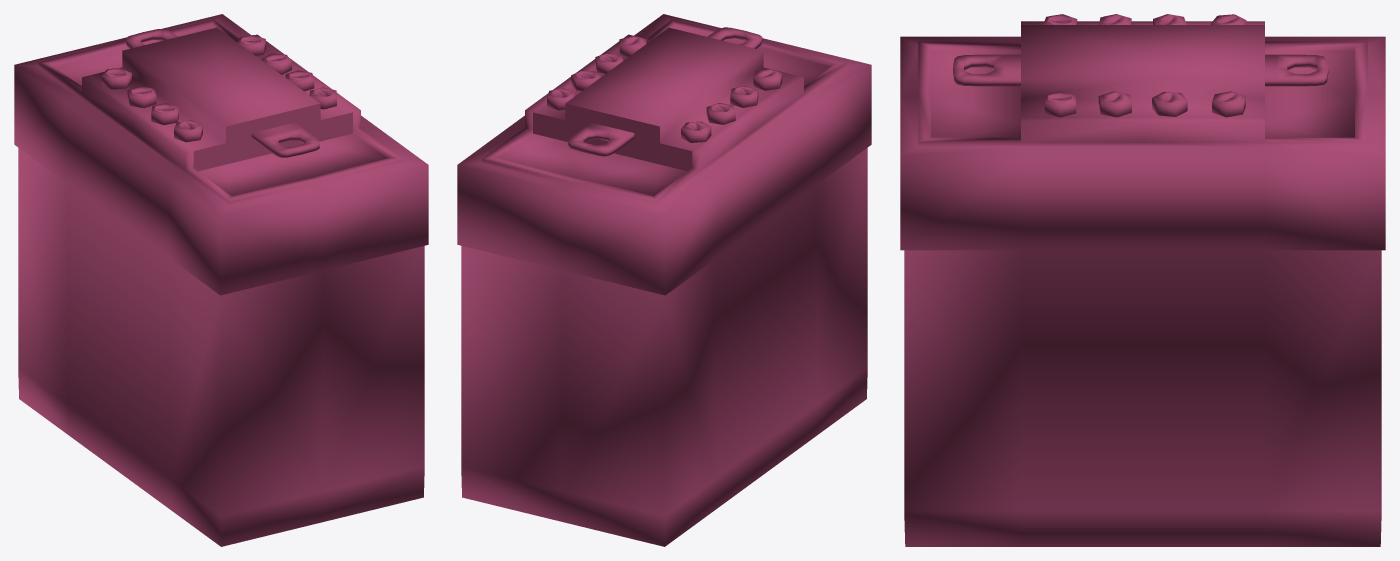
File: Battery_Model_2.fbx
The picture shows the model from 3 angles, left to right: view 1: azimuth 30°, elevation 25°; view 2: azimuth 150°, elevation 25°; view 3: azimuth 270°, elevation 25°; orthographic projection. The views are drawn at different scales.
Visible parts, largest first — view 1: Bat2; view 2: Bat2; view 3: Bat2.
Boxes of the visible parts, x1,y1,x2,y2 form: Bat2: [14, 14, 428, 546]; Bat2: [457, 14, 871, 546]; Bat2: [900, 14, 1385, 546].
Size of the model in its own units: 260 by 443 by 446.
